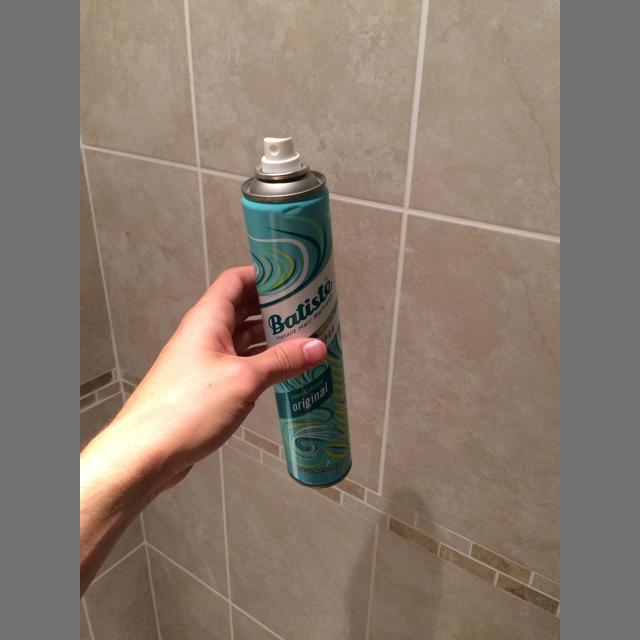litter: (241, 137, 352, 489)
